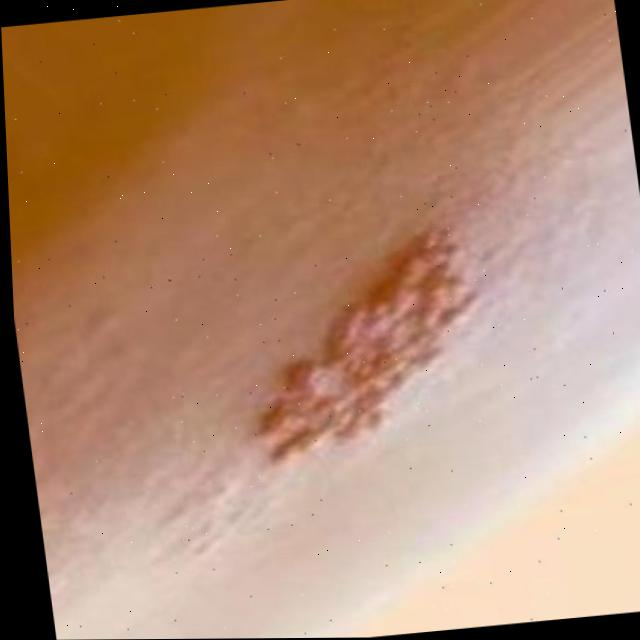Shingles: (225, 216, 503, 472)
